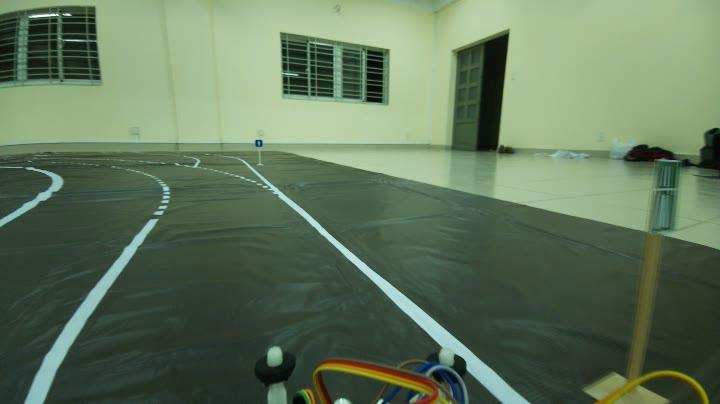highway_entry: (641, 151, 687, 234)
